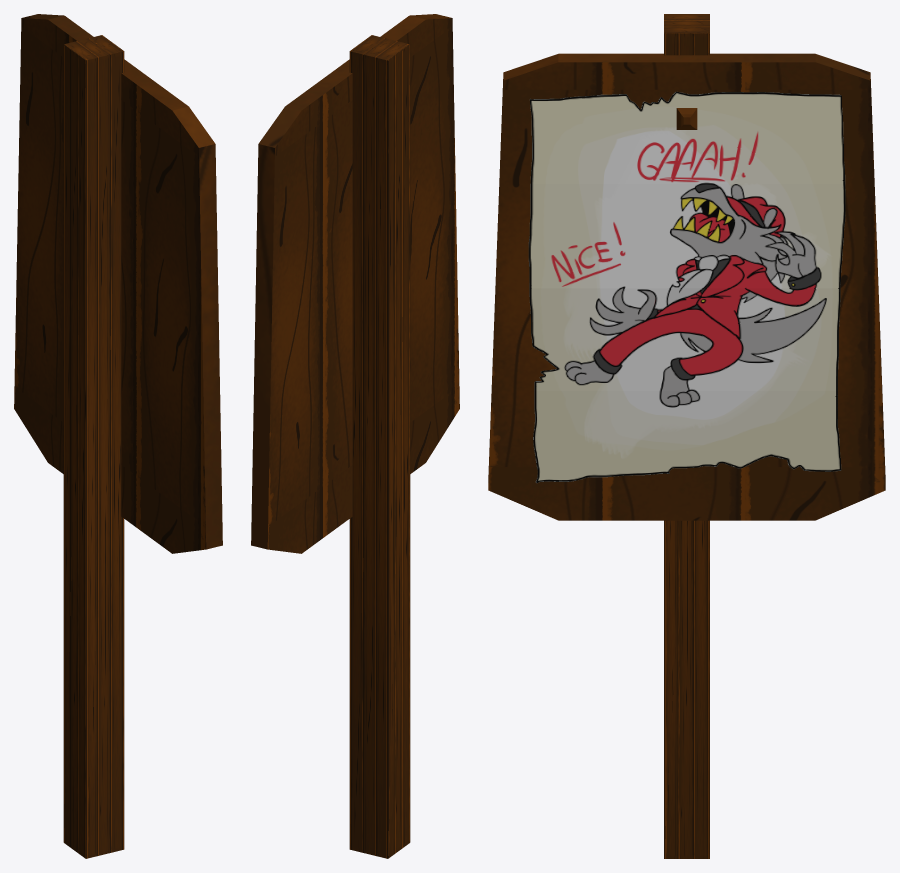
Rendered from EnemyOne_Death.fbx.
3 views of the same model, side by side, from view 1: azimuth 30°, elevation 25°; view 2: azimuth 150°, elevation 25°; view 3: azimuth 270°, elevation 25° (orthographic). The views are drawn at different scales.
Parts seen in each view (by area): view 1: Board8; view 2: Board8; view 3: Poster, Board8.
Boxes of the visible parts, x1,y1,x2,y2 form: Board8: (14, 14, 222, 858); Board8: (251, 14, 459, 858); Poster: (528, 91, 845, 483); Board8: (488, 14, 885, 858).
Size of the model in its own units: 5.42 by 69.44 by 30.31.
Materials: 2 (2 with a texture image).
